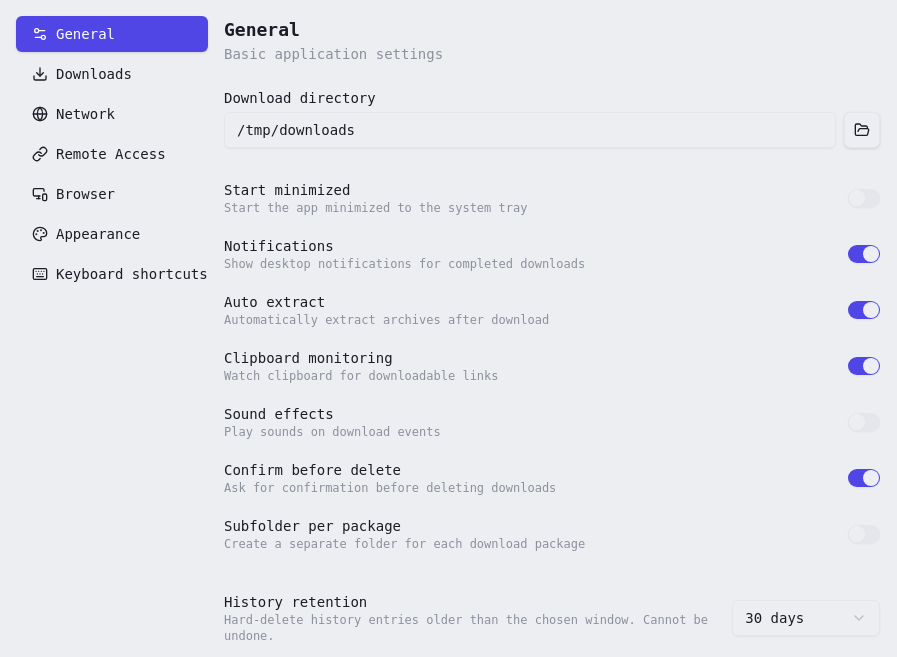
SettingsView › should switch to Network section when tab clicked
Expected: the button "General" is shown, [16,16,208,52]
Click the button "Network": (112,114) [16,96,208,132]
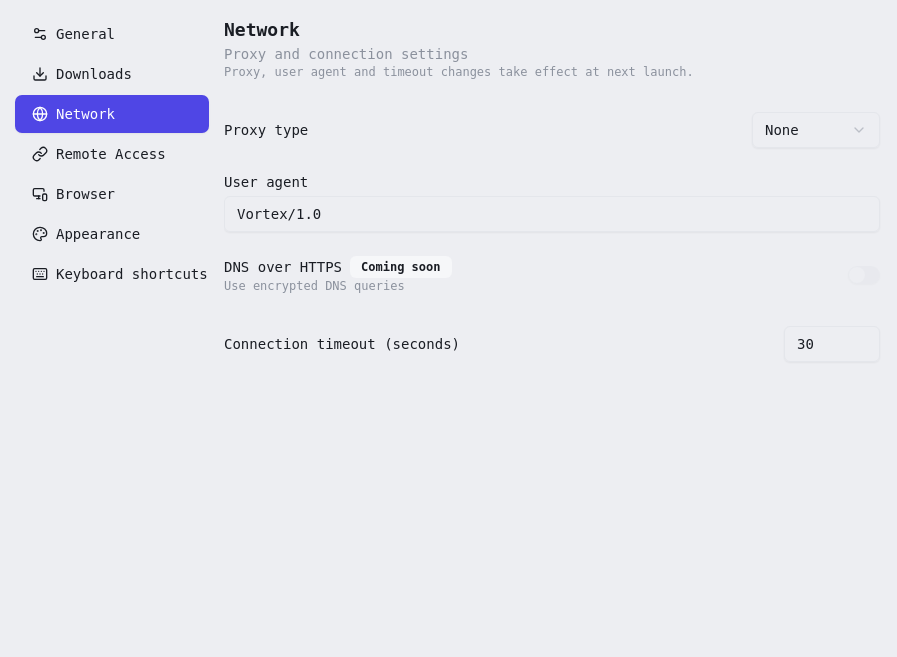
Now the text "Proxy type" is shown, box [224,120,308,140]
Now the text "User agent" is shown, box [224,174,308,190]
